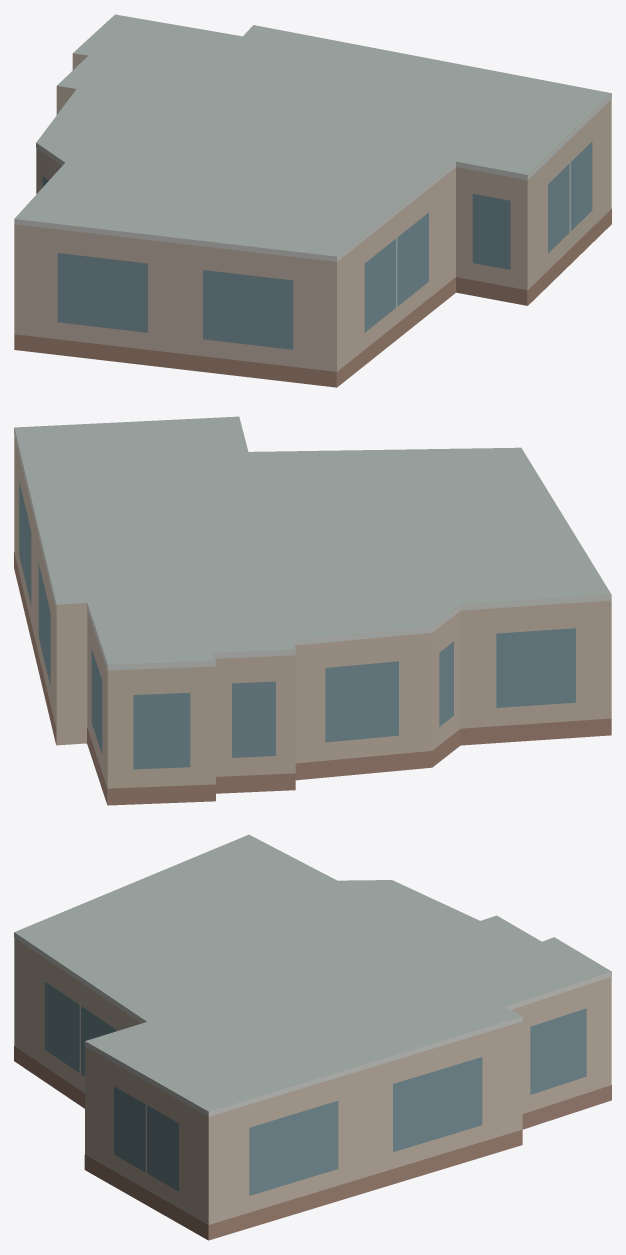
Rendered from survey-upis-33030698.glb.
3 renders of one model, top to bottom at view 1: azimuth 30°, elevation 25°; view 2: azimuth 150°, elevation 25°; view 3: azimuth 270°, elevation 25°, orthographic. The views are drawn at different scales.
Parts seen in each view (by area): view 1: survey-upis-33030698.tmp; view 2: survey-upis-33030698.tmp; view 3: survey-upis-33030698.tmp.
Part boxes in pixels (<box>): survey-upis-33030698.tmp: <box>14,14,611,387</box>; survey-upis-33030698.tmp: <box>14,416,611,805</box>; survey-upis-33030698.tmp: <box>14,834,611,1240</box>.
Size of the model in its own units: 14.08 by 3.05 by 12.83.
